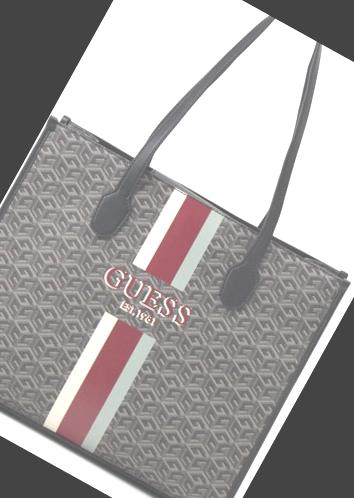GUESS: (101, 262, 194, 329)
